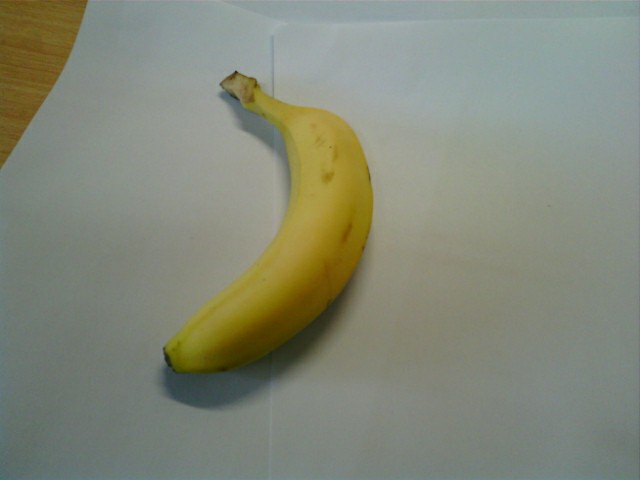fresh_banana: (157, 98, 374, 372)
